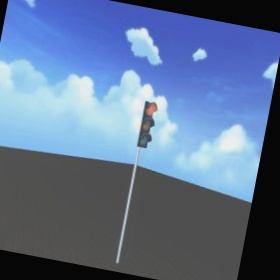sinalRed: (135, 99, 159, 151)
